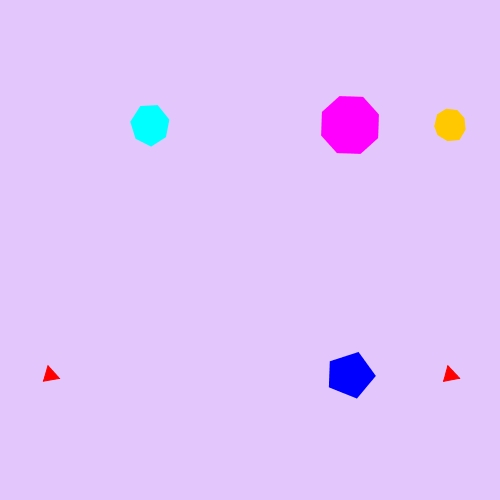heptagon: (126, 102, 174, 148)
nonagon: (430, 105, 471, 145)
octagon: (316, 91, 384, 159)
pentagon: (324, 349, 377, 402)
triangle: (38, 362, 63, 388), (438, 362, 463, 388)
